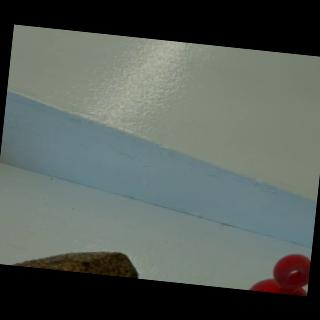teletubby: (249, 254, 310, 296)
